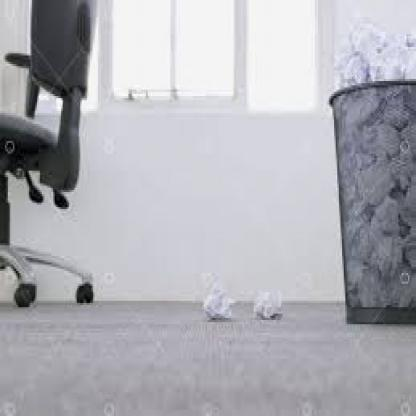paper: (355, 156, 390, 205), (199, 271, 230, 320), (353, 264, 387, 303), (347, 17, 379, 58), (372, 230, 402, 273), (252, 282, 283, 322), (371, 42, 405, 76), (389, 262, 414, 308), (331, 47, 363, 81), (340, 96, 378, 124), (369, 198, 400, 230), (382, 94, 408, 124), (348, 222, 368, 260), (342, 250, 362, 282), (364, 122, 384, 154), (341, 209, 358, 245), (394, 23, 414, 47), (340, 132, 360, 154), (397, 136, 414, 158), (402, 179, 414, 209), (344, 177, 358, 198), (402, 203, 414, 224), (386, 126, 396, 149), (402, 224, 414, 243), (402, 122, 414, 138), (342, 160, 353, 177), (408, 49, 414, 77)
